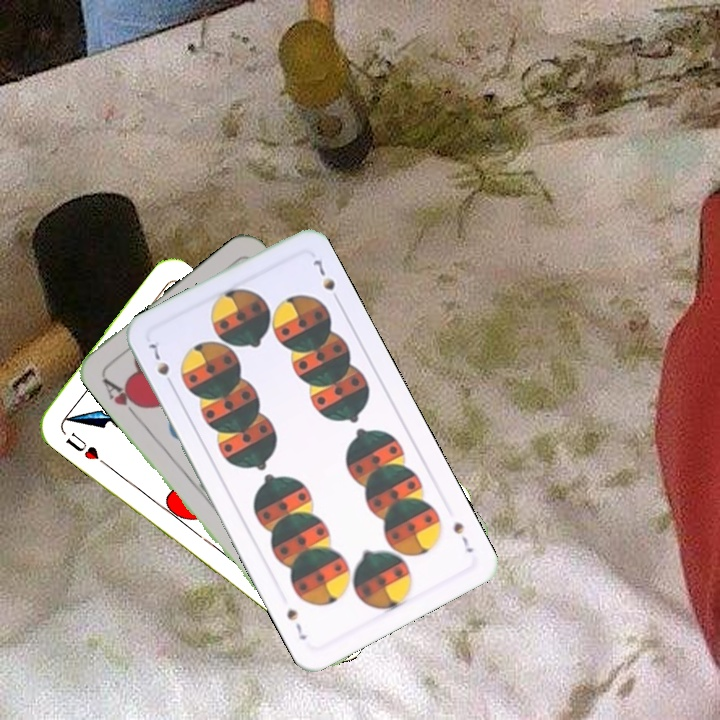HA: (99, 374, 146, 421)
HU: (61, 428, 102, 463)
S7: (144, 336, 177, 392), (449, 518, 476, 556)
